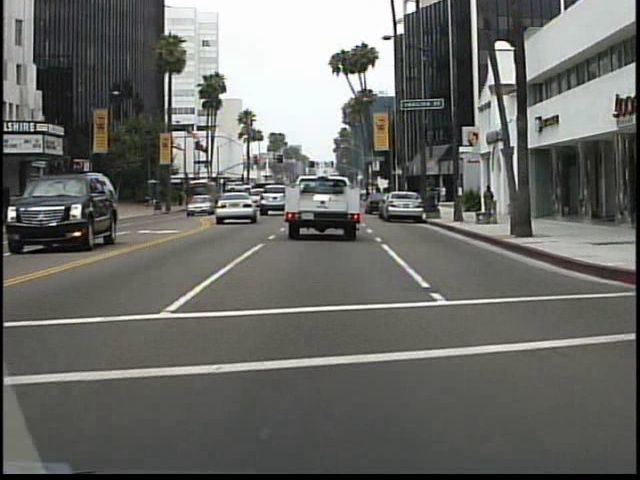person: (479, 182, 497, 218), (144, 190, 154, 214)
